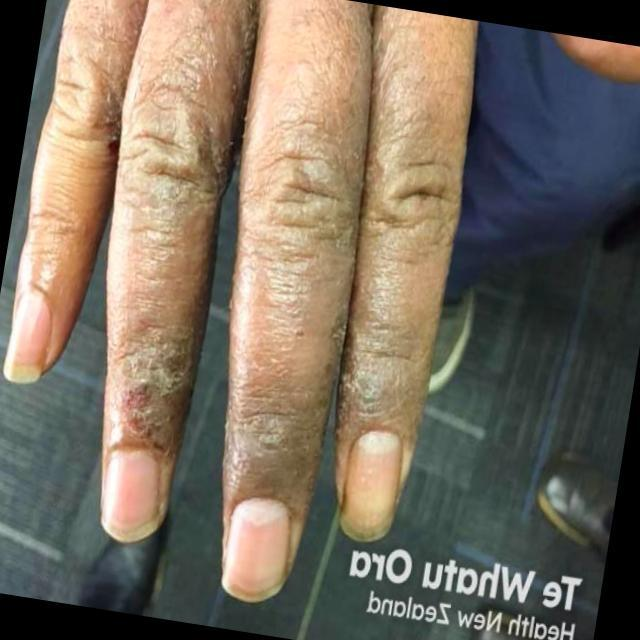Eczema: (94, 50, 204, 454), (239, 191, 320, 507), (339, 293, 424, 427)
